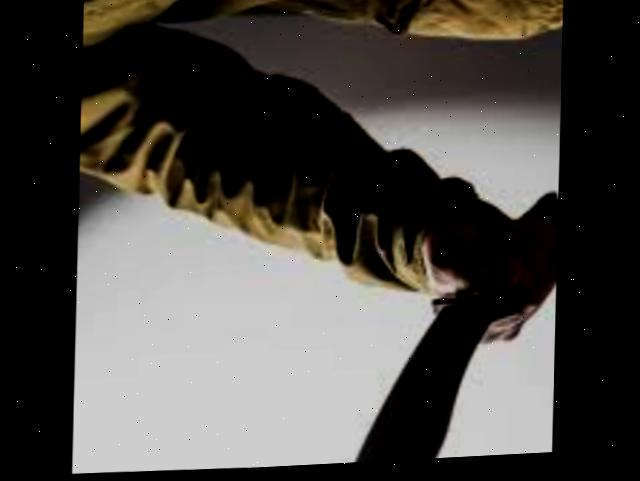long knife: (323, 179, 559, 468)
